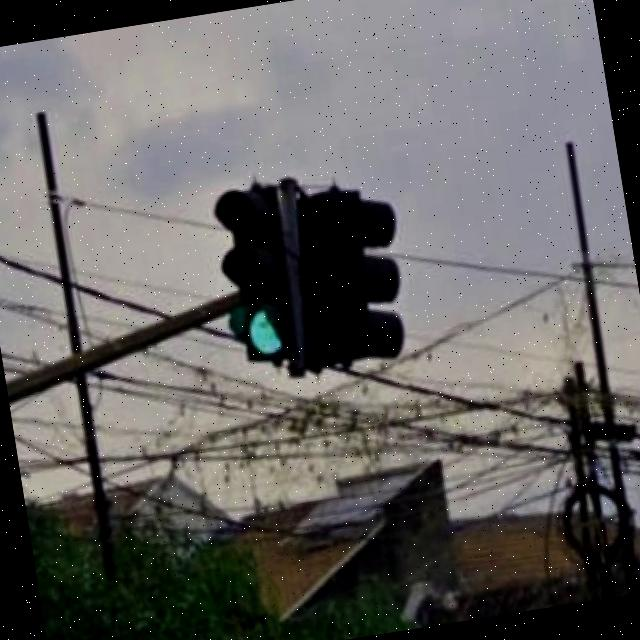Zielone swiatlo: (210, 185, 303, 368)
